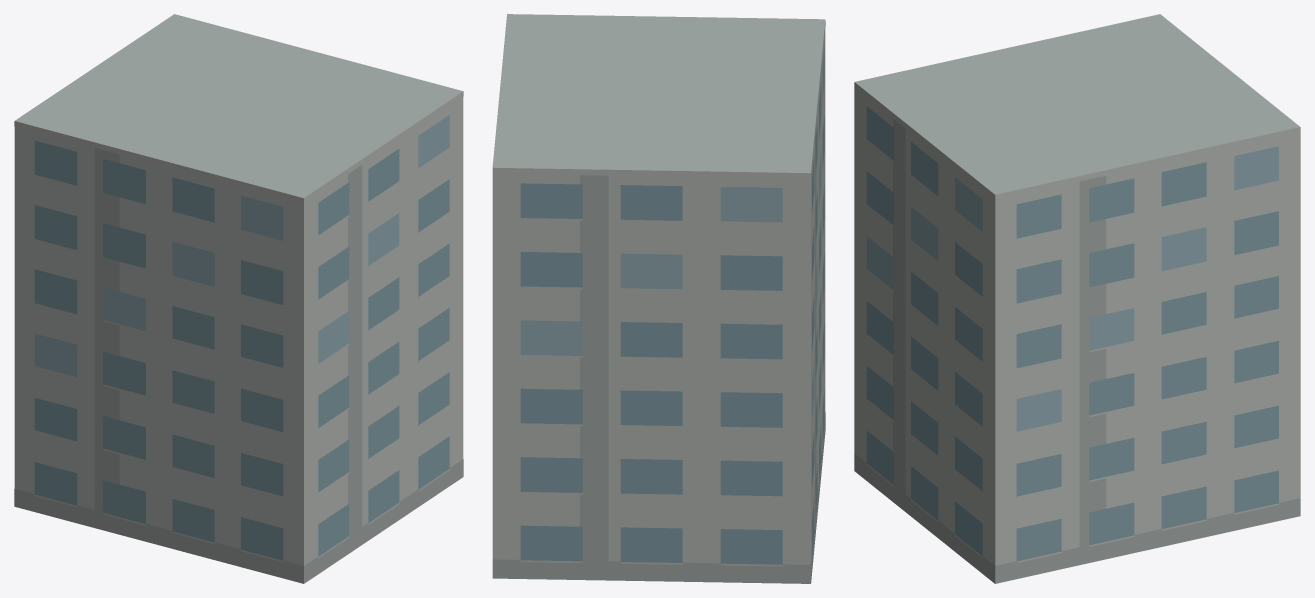
The model's file is survey-upis-32882557.glb.
The picture shows the model from 3 angles, left to right: view 1: azimuth 30°, elevation 25°; view 2: azimuth 150°, elevation 25°; view 3: azimuth 270°, elevation 25°; orthographic projection. The views are drawn at different scales.
Parts seen in each view (by area): view 1: survey-upis-32882557.tmp; view 2: survey-upis-32882557.tmp; view 3: survey-upis-32882557.tmp.
Part boxes in pixels (<box>): survey-upis-32882557.tmp: <box>14,14,463,583</box>; survey-upis-32882557.tmp: <box>492,14,825,583</box>; survey-upis-32882557.tmp: <box>854,14,1300,583</box>.
Size of the model in its own units: 17.15 by 17.2 by 17.88.
